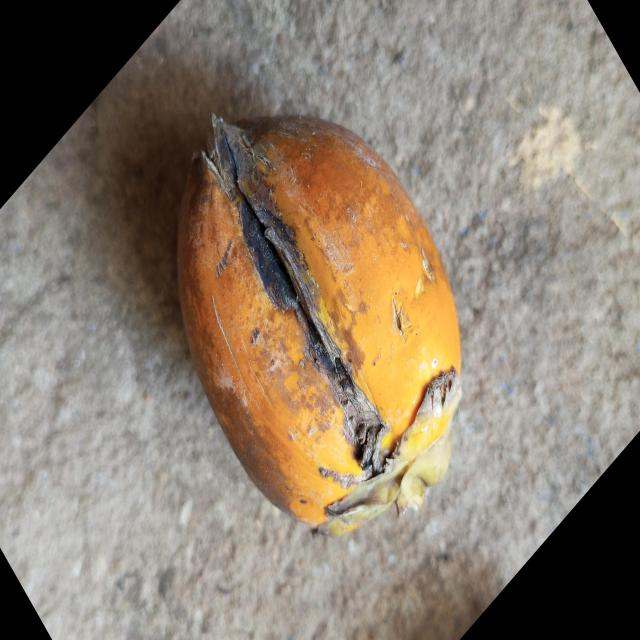damaged: (174, 116, 463, 538)
